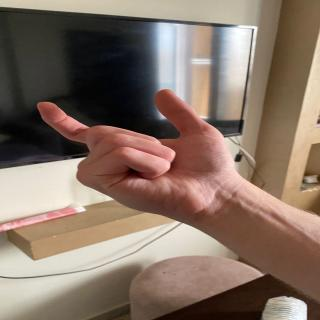NOON: (27, 90, 270, 222)
